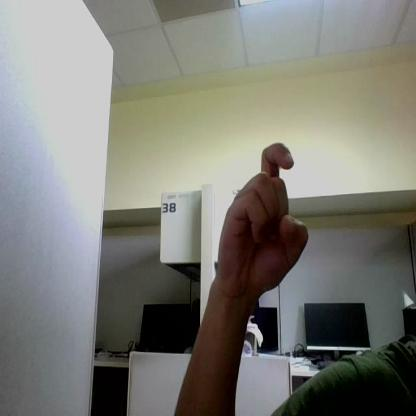X: (219, 143, 308, 290)
